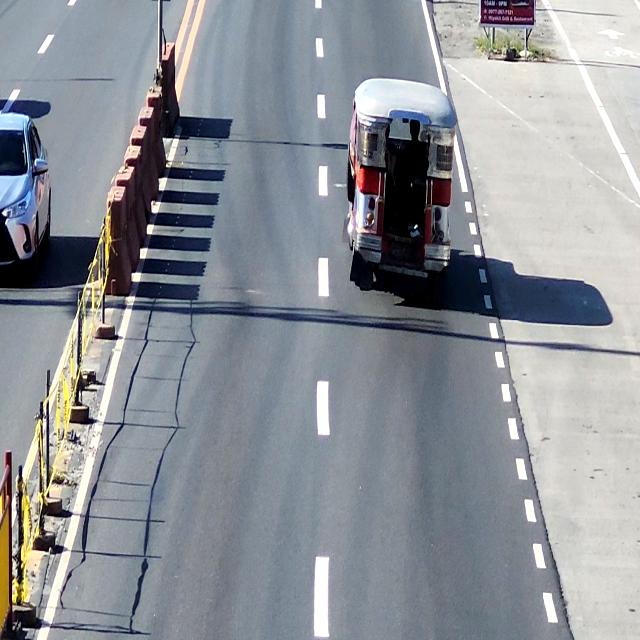Car: (0, 109, 58, 273)
Jeep: (344, 73, 455, 304)
